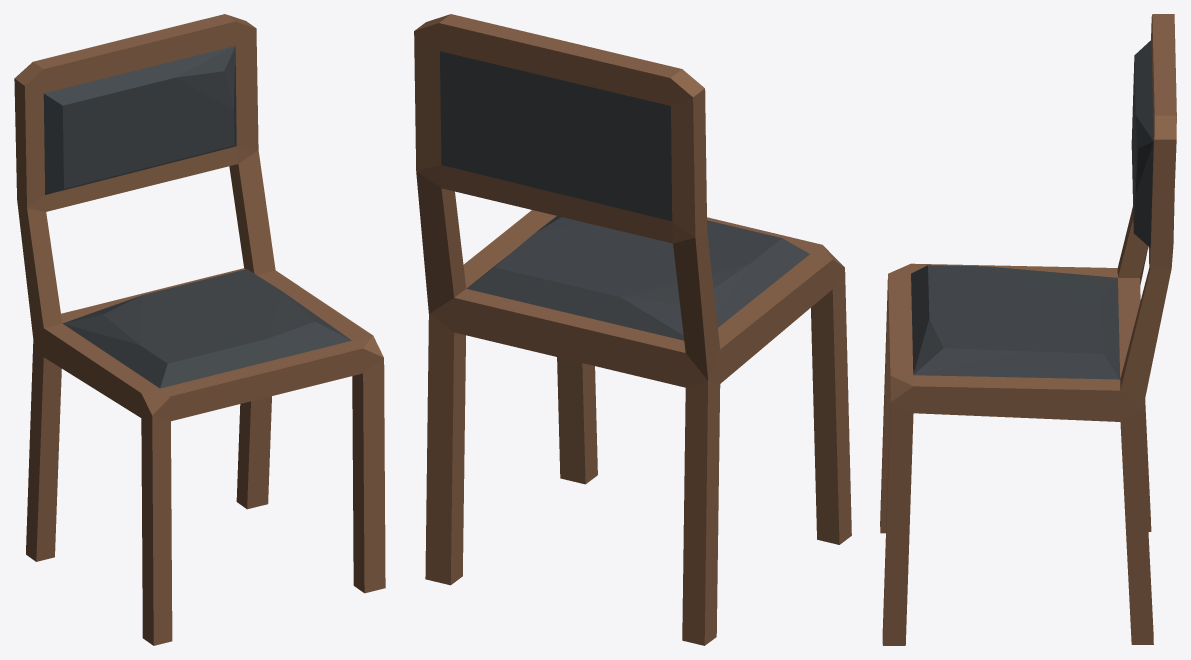
Rendered from SM_Prop_Chair_01.fbx.
The picture shows the model from 3 angles, left to right: view 1: azimuth 30°, elevation 25°; view 2: azimuth 150°, elevation 25°; view 3: azimuth 270°, elevation 25°; orthographic projection. The views are drawn at different scales.
Parts seen in each view (by area): view 1: SM_Prop_Chair_01; view 2: SM_Prop_Chair_01; view 3: SM_Prop_Chair_01.
Part boxes in pixels (box(x1,y1,x2,y2)): SM_Prop_Chair_01: box(14, 14, 385, 645); SM_Prop_Chair_01: box(414, 14, 851, 645); SM_Prop_Chair_01: box(880, 14, 1176, 645).
Bounding box in the file's own units: 55.77 × 107 × 55.83.
